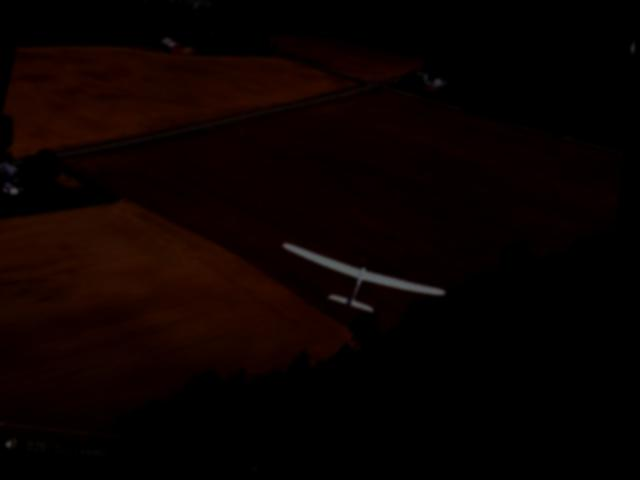plane: (274, 240, 460, 324)
